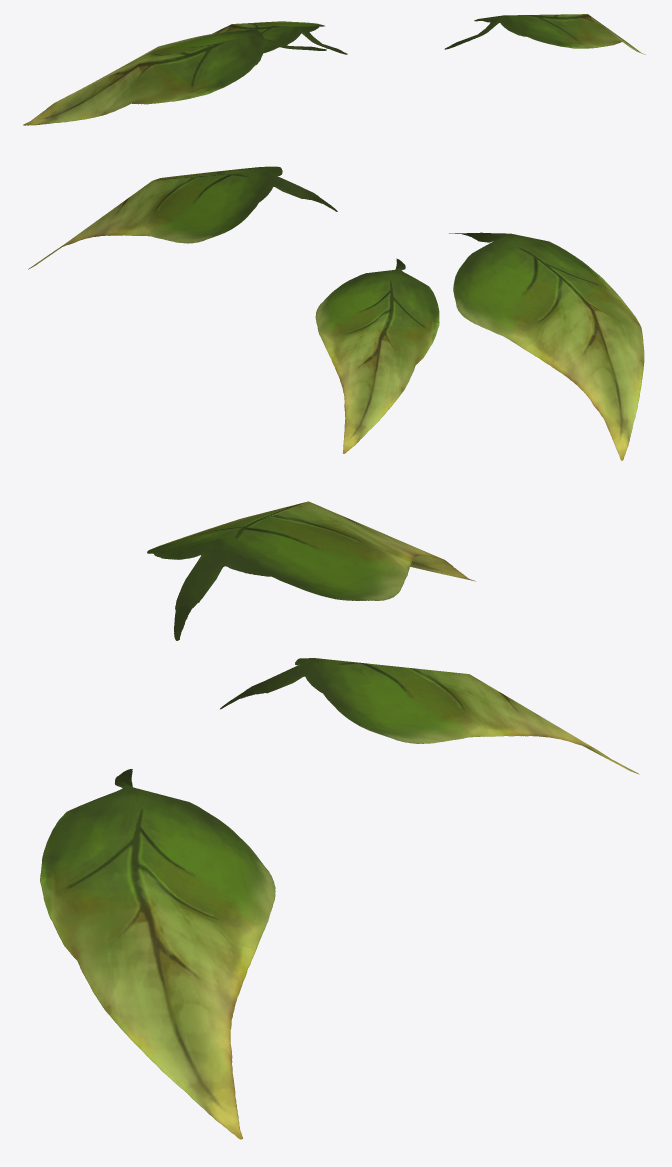
Rendered from plantDetail2.fbx.
3 renders of one model, top to bottom at view 1: azimuth 30°, elevation 25°; view 2: azimuth 150°, elevation 25°; view 3: azimuth 270°, elevation 25°, orthographic. The views are drawn at different scales.
Parts seen in each view (by area): view 1: plantDetail2; view 2: plantDetail2; view 3: plantDetail2.
Part boxes in pixels (left/top/right/bottom): plantDetail2: left=23, top=14, right=645, bottom=125; plantDetail2: left=28, top=166, right=644, bottom=460; plantDetail2: left=40, top=501, right=639, bottom=1139.
Size of the model in its own units: 3.26 by 0.6907 by 1.68.
